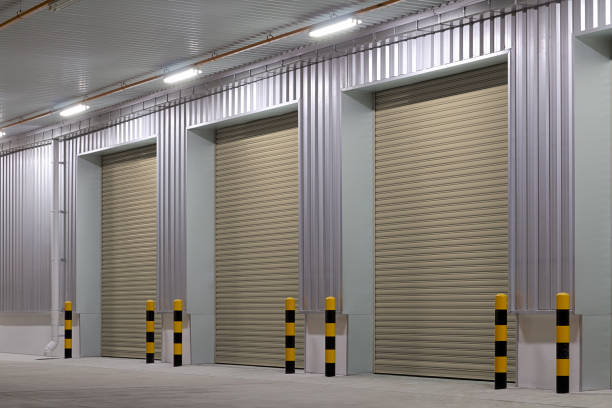bollard: (555, 291, 571, 394), (494, 291, 509, 390), (283, 294, 298, 375), (323, 296, 337, 378), (172, 298, 184, 368), (144, 298, 156, 366), (63, 299, 74, 359)
